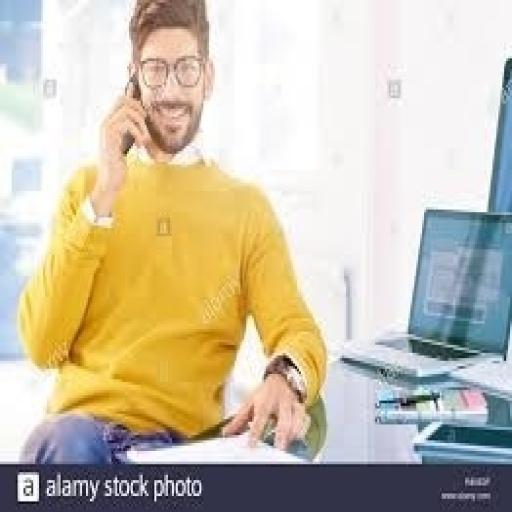calling: (16, 0, 328, 464)
